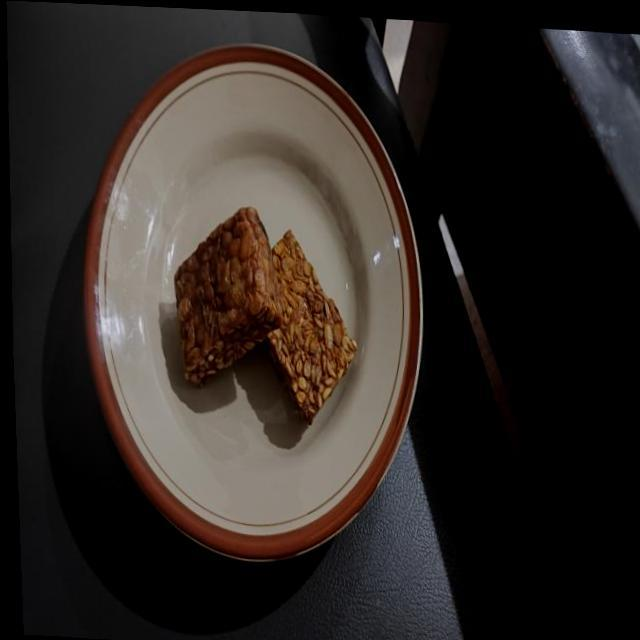tempe_goreng: (174, 206, 284, 384), (266, 230, 356, 422)
